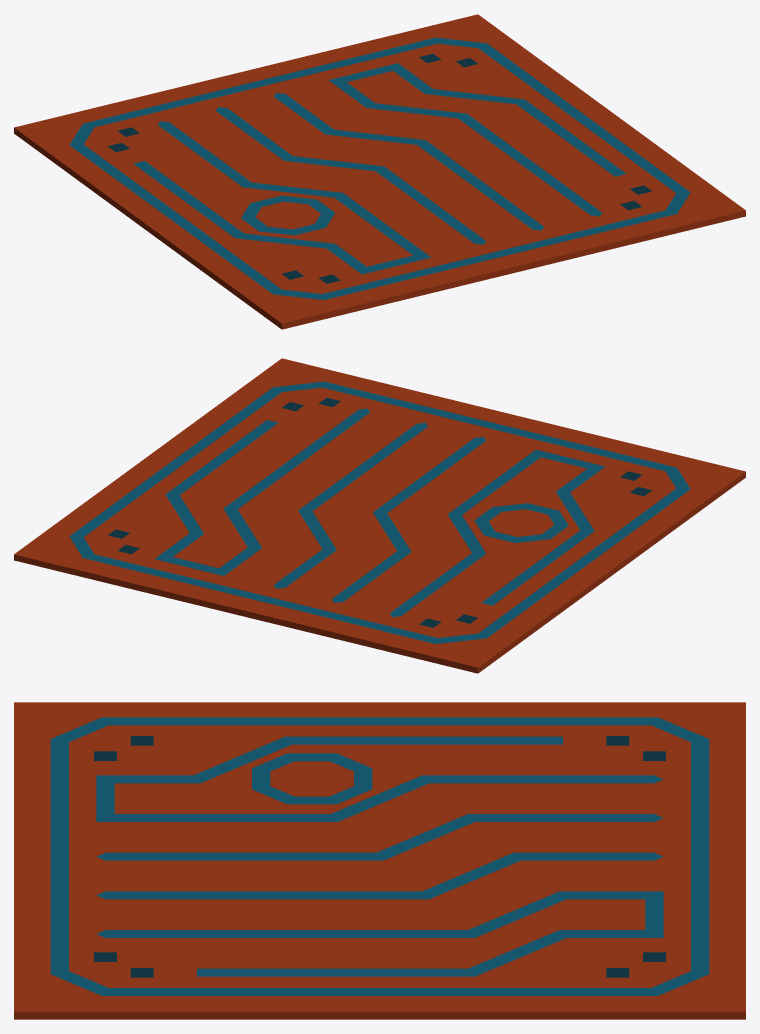
File: Tile_2-0.fbx
3 views of the same model, one above another, from view 1: azimuth 30°, elevation 25°; view 2: azimuth 150°, elevation 25°; view 3: azimuth 270°, elevation 25° (orthographic). The views are drawn at different scales.
Parts seen in each view (by area): view 1: Tile_2-0; view 2: Tile_2-0; view 3: Tile_2-0.
Part boxes in pixels (<box>): Tile_2-0: <box>14,14,745,329</box>; Tile_2-0: <box>14,358,745,673</box>; Tile_2-0: <box>14,702,745,1019</box>.
Bounding box in the file's own units: 4 × 4 × 0.051.
